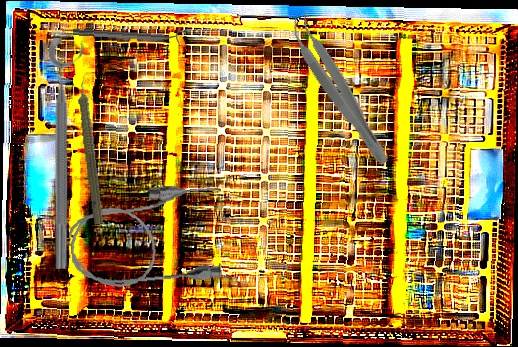Cannula: (64, 179, 232, 296)
Fixation Ring: (48, 38, 86, 269), (72, 22, 187, 48)
Handpiece: (72, 71, 110, 225)
Tissue Forceps: (282, 10, 400, 170)
